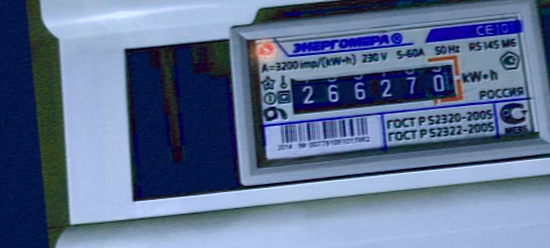0: (431, 70, 445, 92)
2: (300, 82, 316, 104), (378, 75, 392, 97)
6: (326, 81, 341, 102), (352, 79, 366, 99)
7: (403, 73, 418, 95)
screen: (279, 49, 471, 123)
